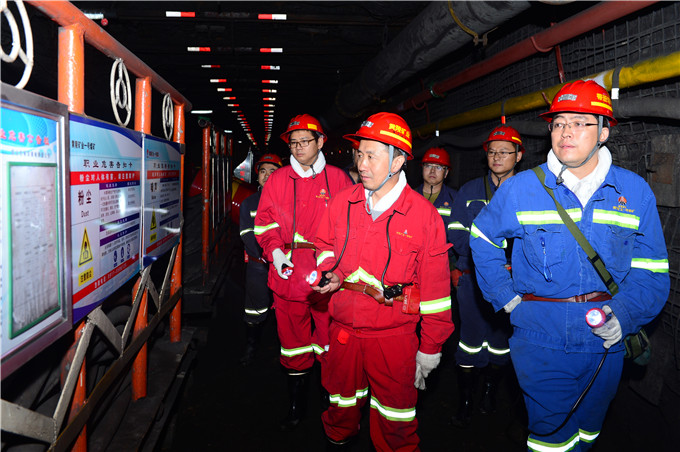helmet: (537, 84, 616, 164), (345, 112, 413, 189), (283, 109, 331, 160)
